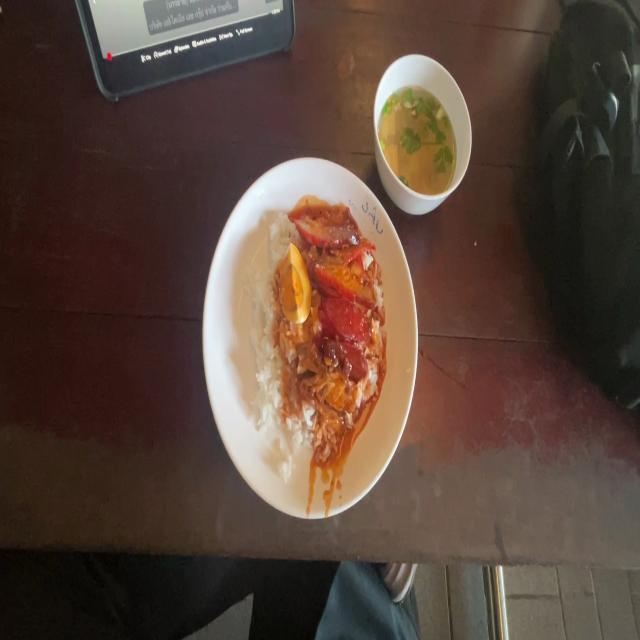01red_pork_and_crispy_pork: (256, 213, 381, 466)
